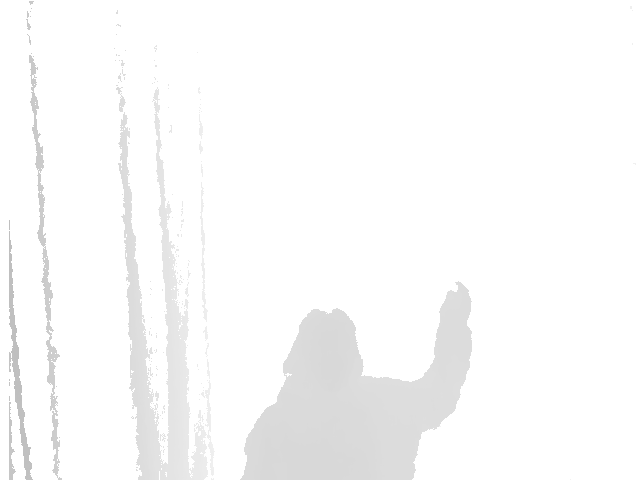hand: (437, 278, 472, 330)
head: (281, 310, 366, 383)
person: (241, 279, 476, 480)
